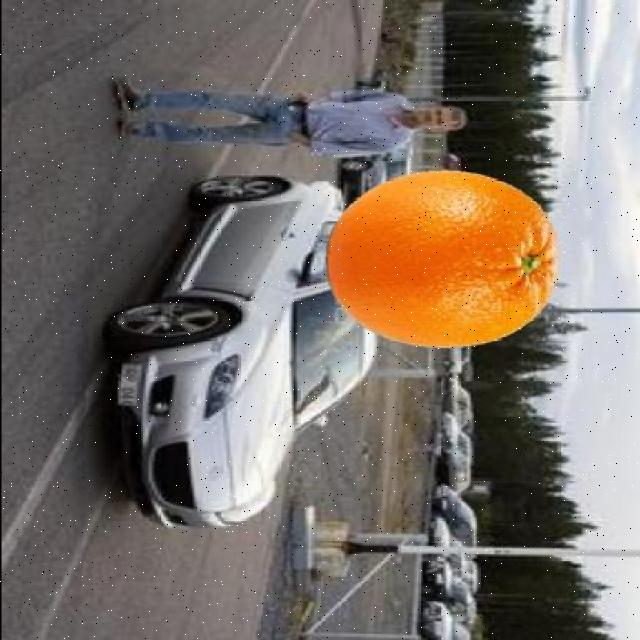Orange: (325, 168, 557, 350)
